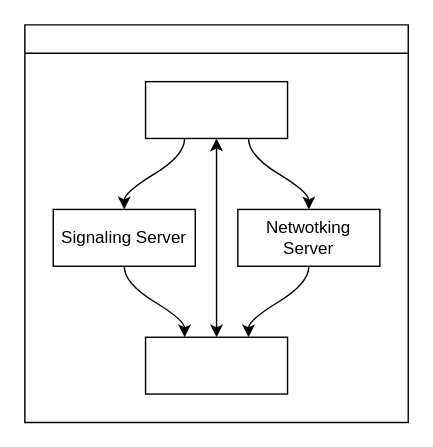
This 433x447 diagram has some shape labels left out. The shapes that lost their labels are listed below. From the top down, each one's centre as x and y in pixels, then its label:
At (x=216, y=109): "Client".
At (x=216, y=365): "Clients".
